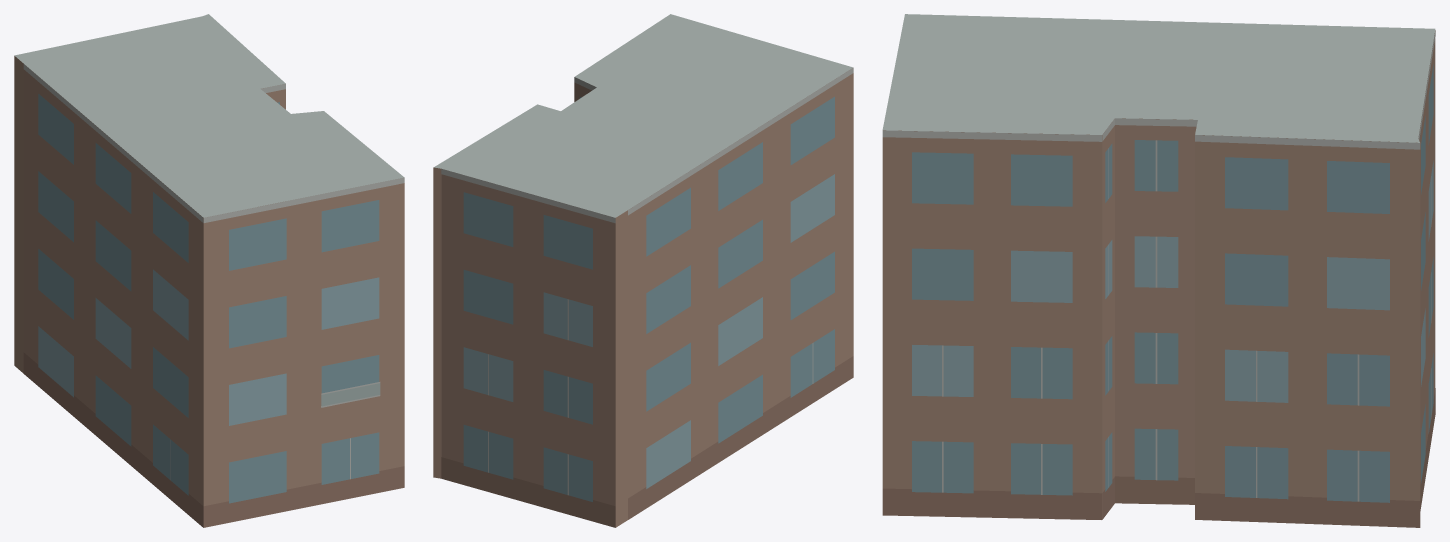
Rendered from survey-upis-32755089.glb.
The picture shows the model from 3 angles, left to right: view 1: azimuth 30°, elevation 25°; view 2: azimuth 150°, elevation 25°; view 3: azimuth 270°, elevation 25°; orthographic projection. The views are drawn at different scales.
Parts seen in each view (by area): view 1: survey-upis-32755089.tmp; view 2: survey-upis-32755089.tmp; view 3: survey-upis-32755089.tmp.
Part boxes in pixels (x1,y1,x2,y2): survey-upis-32755089.tmp: (14,14,404,527); survey-upis-32755089.tmp: (433,14,853,527); survey-upis-32755089.tmp: (882,14,1435,527).
Size of the model in its own units: 9.88 by 13.75 by 17.91.
